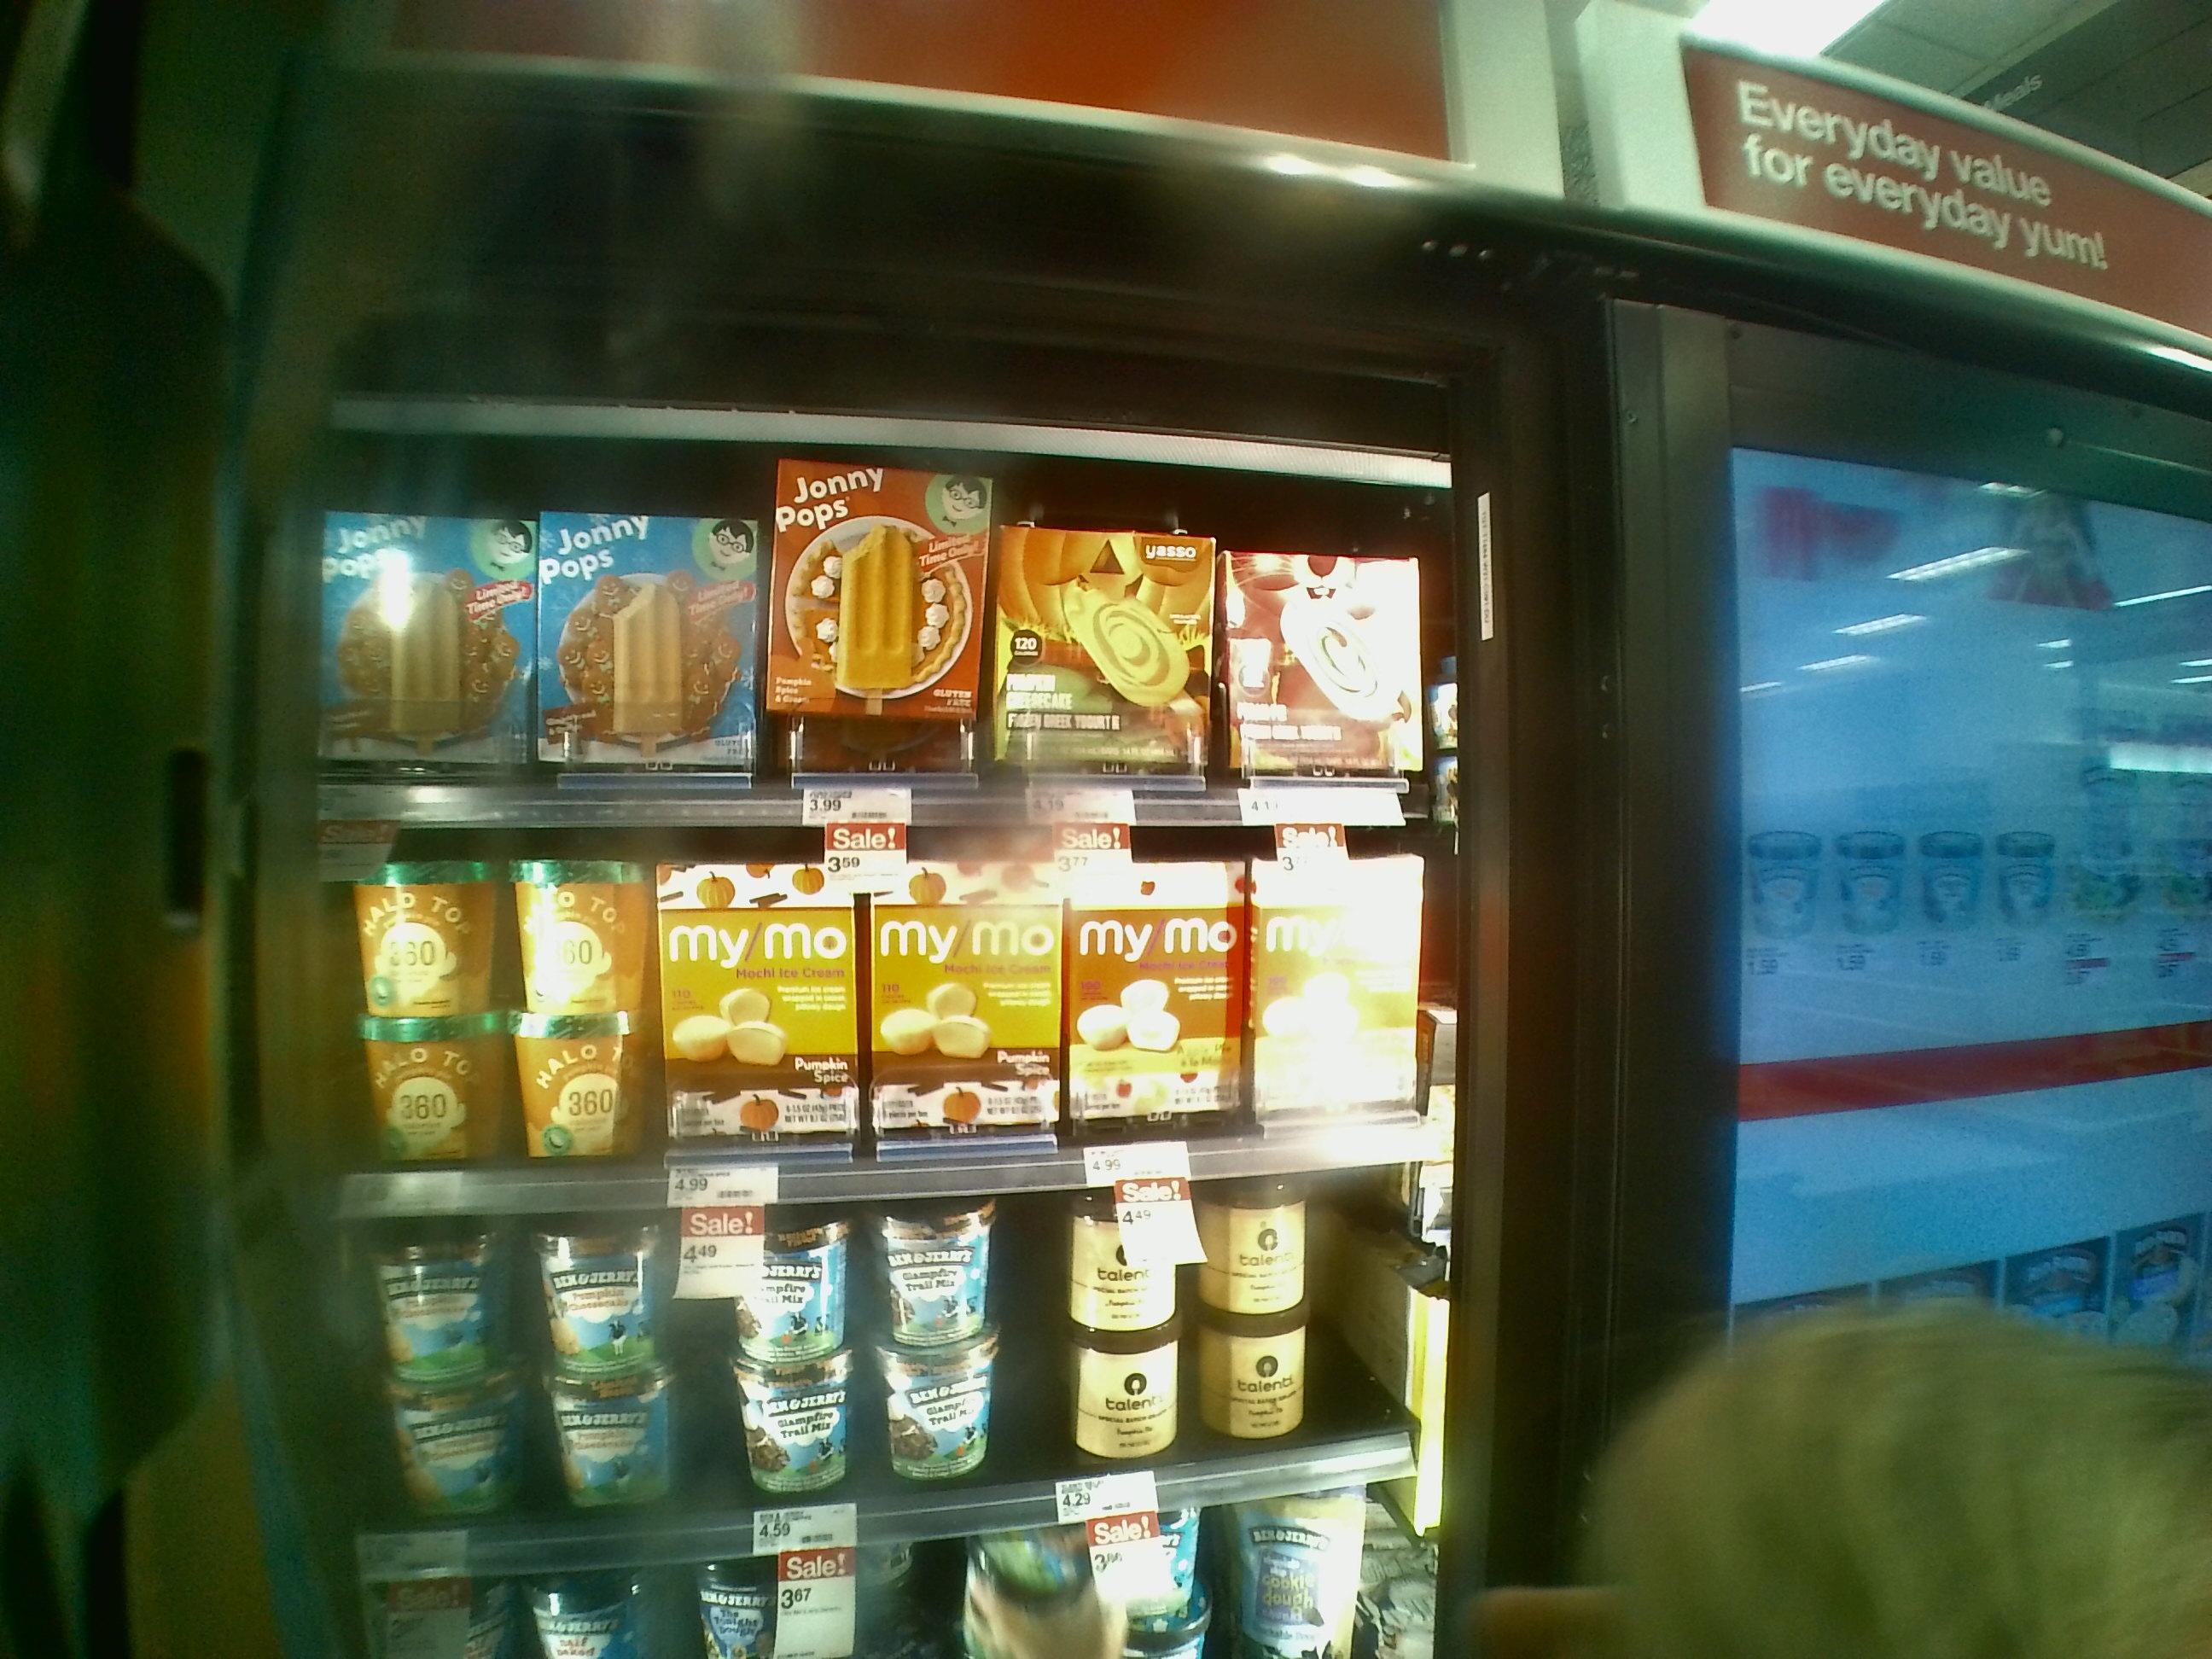shelf: (303, 429, 1479, 829), (280, 1192, 1432, 1551), (284, 823, 1444, 1164)
